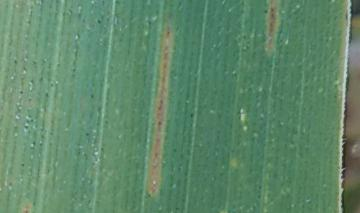tarspot: (156, 119, 164, 133), (157, 98, 163, 112), (95, 18, 103, 26), (11, 58, 19, 66), (188, 111, 195, 119), (43, 91, 50, 99), (100, 1, 107, 8), (37, 75, 43, 83), (25, 17, 31, 25), (262, 7, 268, 15), (88, 93, 95, 99), (17, 89, 24, 95), (26, 95, 32, 102), (84, 131, 90, 137), (23, 124, 29, 130), (19, 162, 26, 167), (99, 146, 104, 153)
